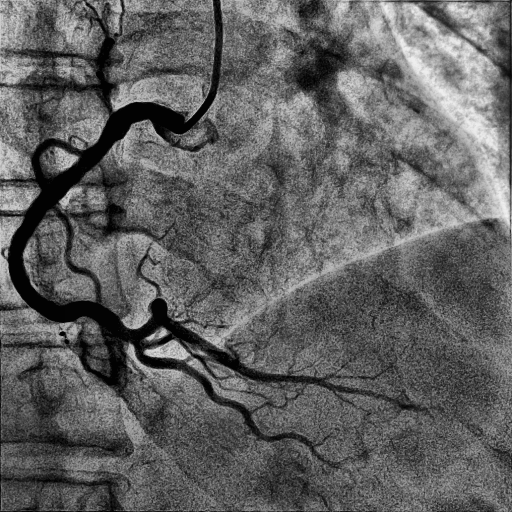pborca: (135, 299, 395, 404)
pda: (132, 340, 340, 467)
rca: (8, 102, 184, 342)
